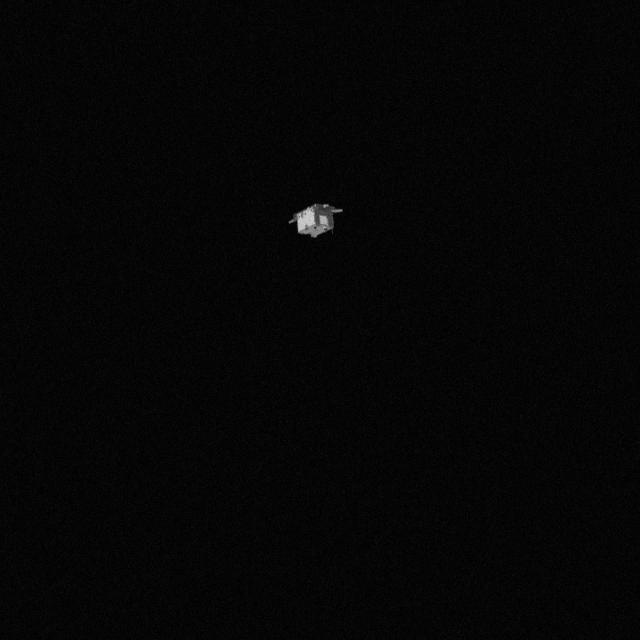satellite: (280, 196, 354, 242)
